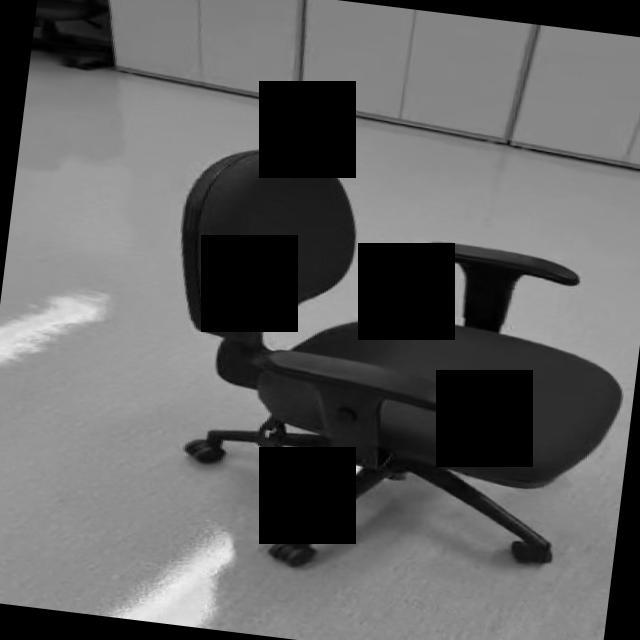chair: (142, 138, 640, 603)
